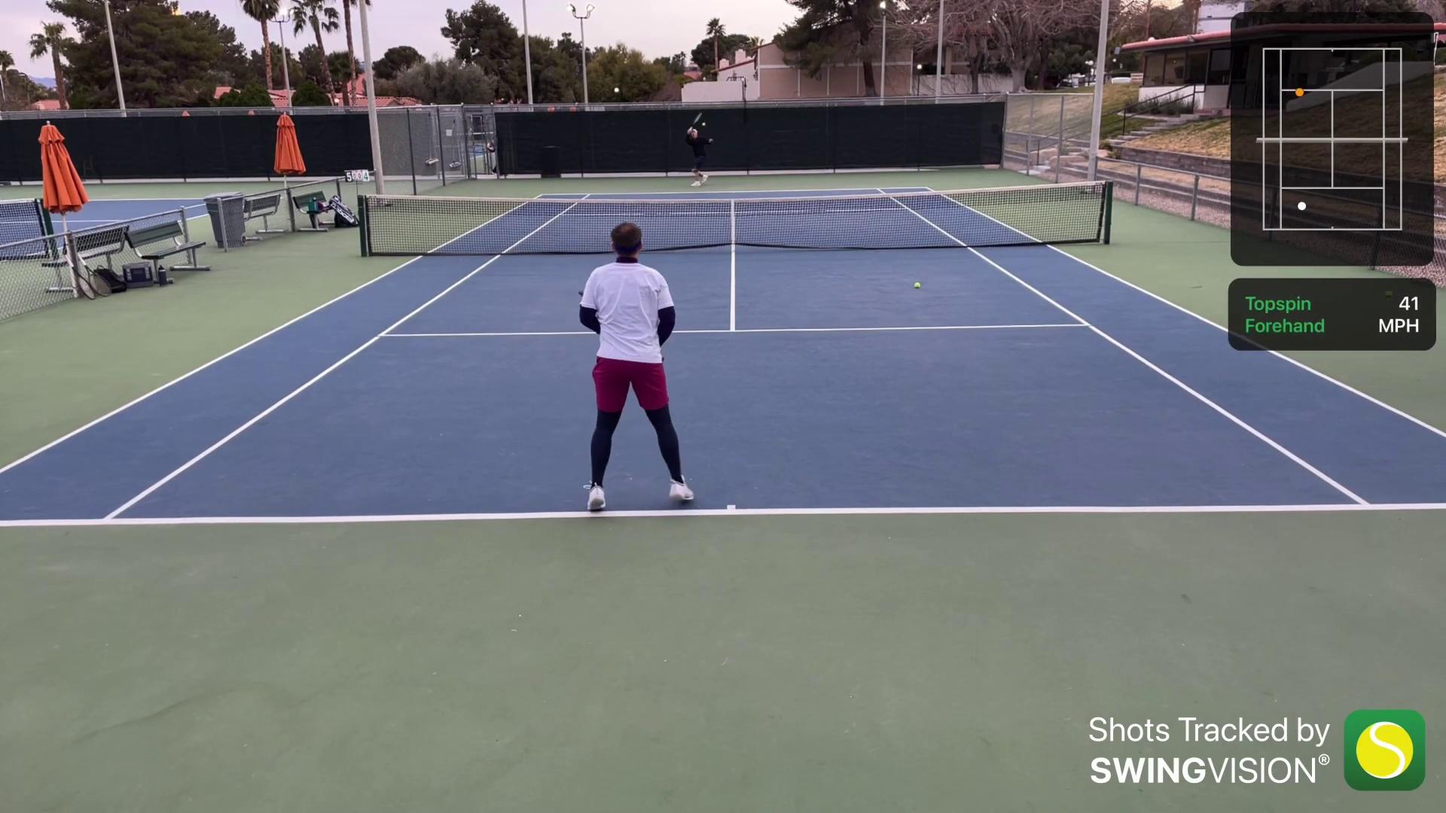ball: (909, 278, 921, 289), (698, 120, 708, 129)
